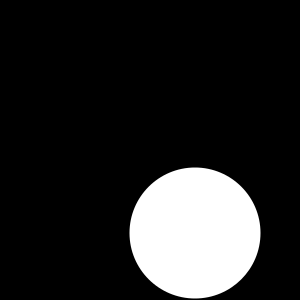rectangle: (130, 168, 260, 298)
